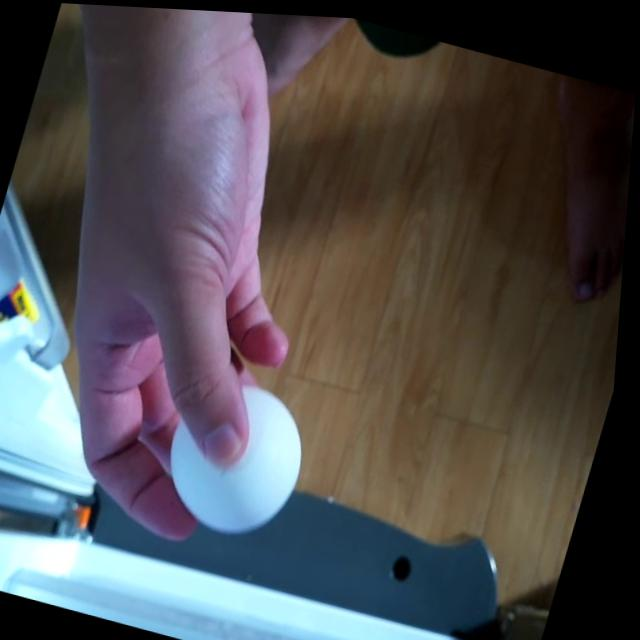egg: (148, 356, 328, 542)
